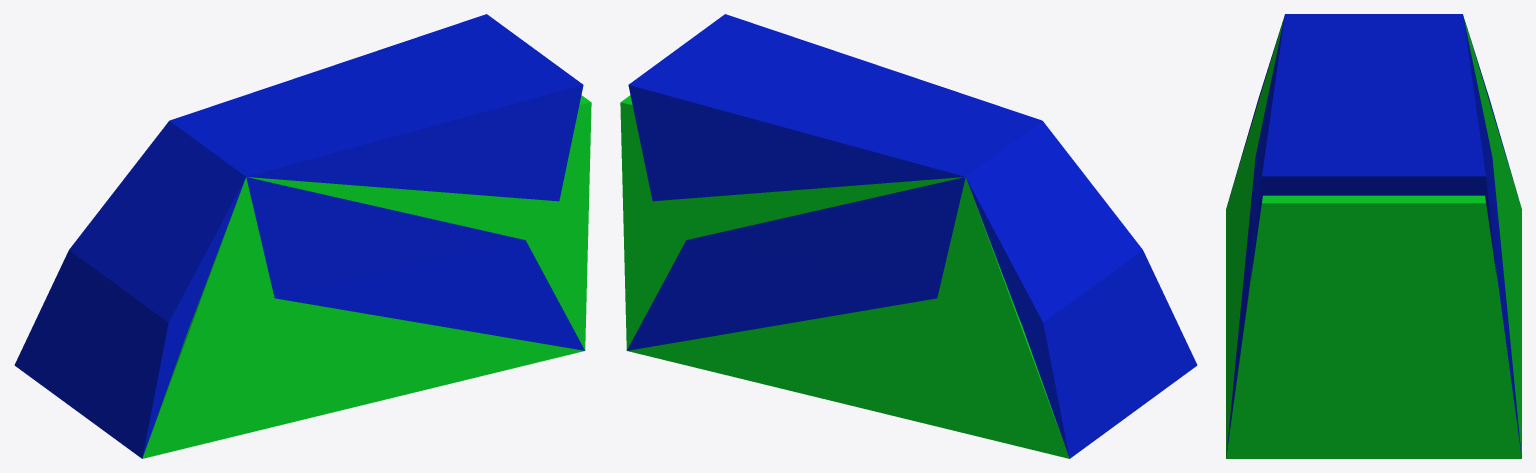
3 views of the same model, side by side, from view 1: azimuth 30°, elevation 25°; view 2: azimuth 150°, elevation 25°; view 3: azimuth 270°, elevation 25° (orthographic). The views are drawn at different scales.
Visible parts, largest first — view 1: car01, car00; view 2: car01, car00; view 3: car00, car01.
Part boxes in pixels (x1,y1,x2,y2): car01: [14, 14, 584, 458]; car00: [142, 95, 591, 458]; car01: [627, 14, 1197, 458]; car00: [620, 95, 1069, 458]; car00: [1226, 16, 1521, 458]; car01: [1226, 14, 1521, 455].
Bounding box in the file's own units: 2.1 × 1.08 × 1.
